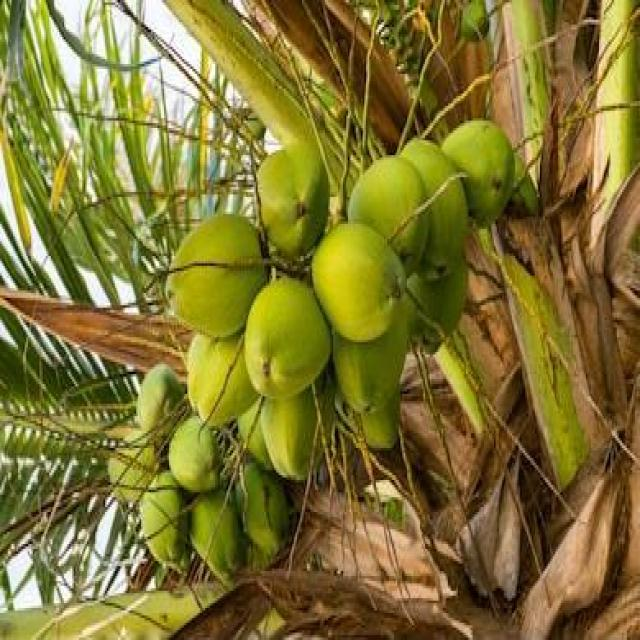coconuts: (170, 146, 428, 472), (110, 381, 282, 580)
